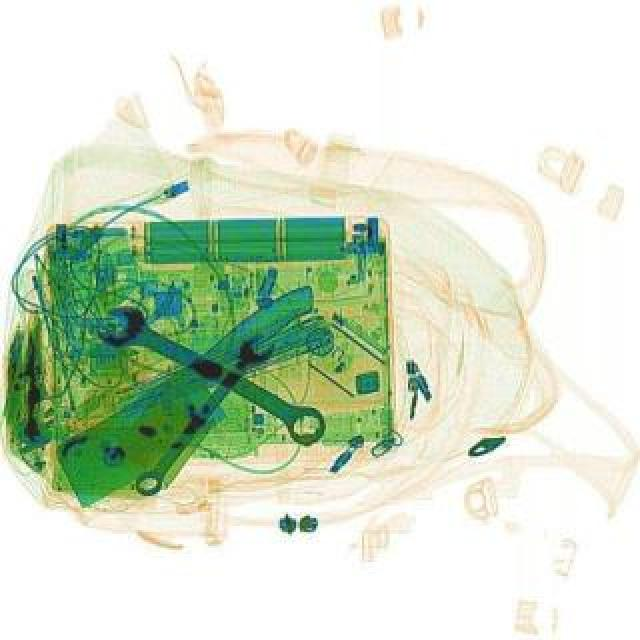knife: (38, 280, 350, 510)
scissors: (92, 296, 336, 454), (124, 326, 280, 502)
